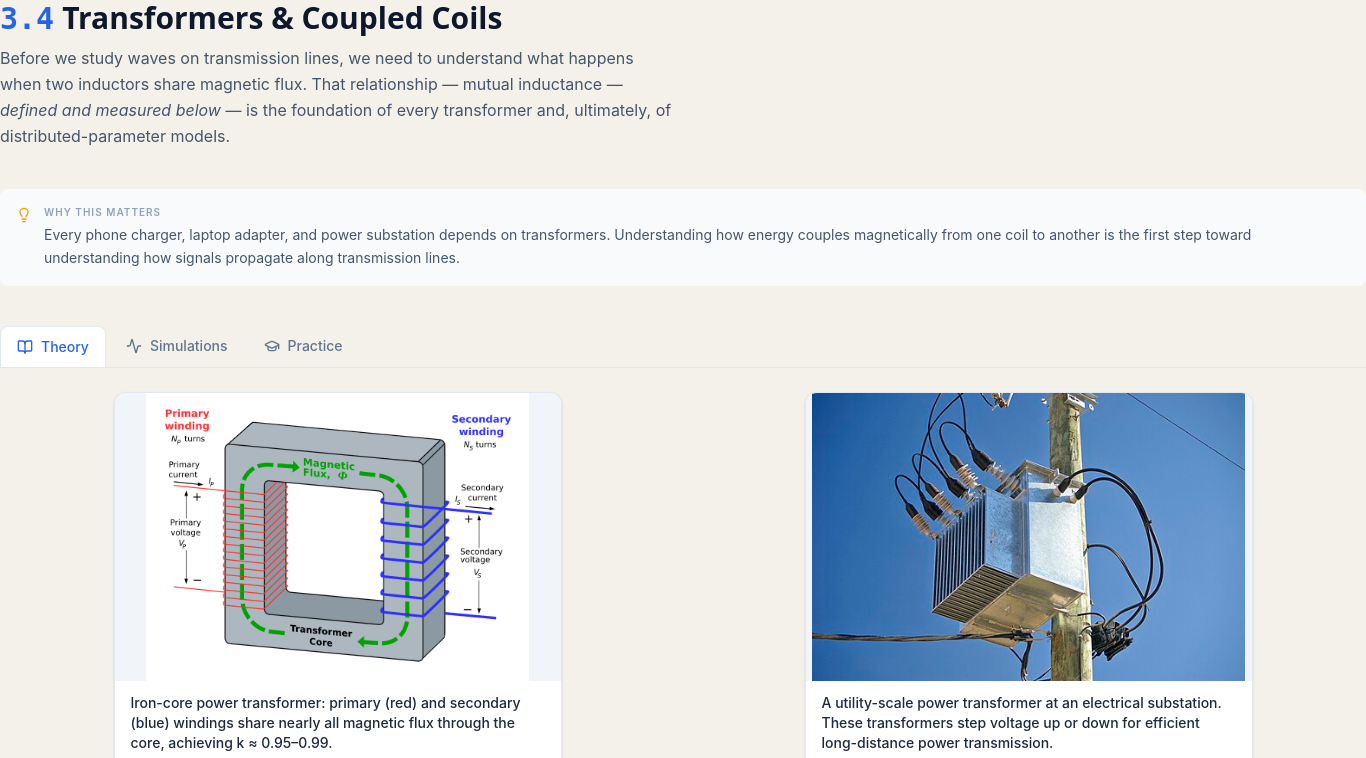
Test case: Transformers — section 3.4 page (mutual-inductance extension) › Simulations tab: the original k/N₂ gate question still renders with real subscripts
Click the tab "Simulations".
click(177, 346)  # box [110,326,244,366]
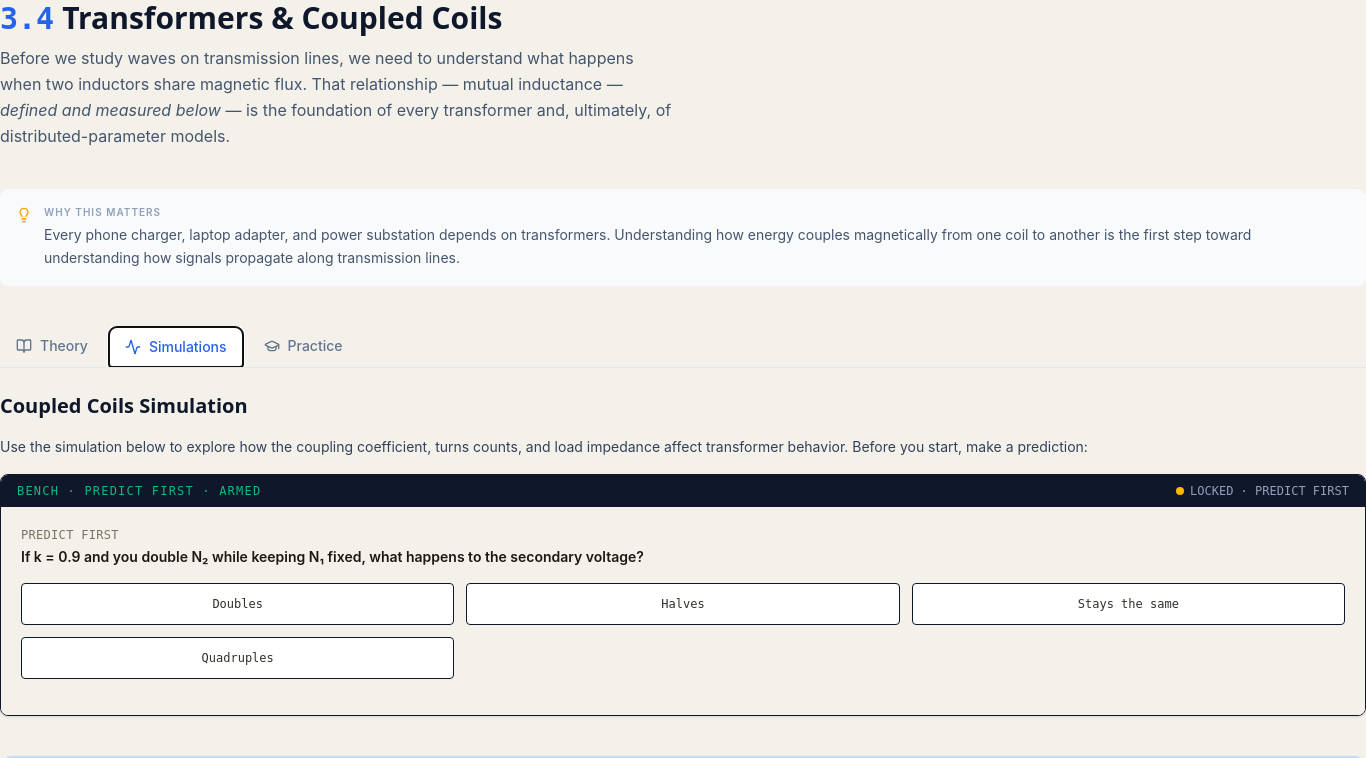
Expected: the text "double N₂ while keeping" is shown, [21,548,644,565]
